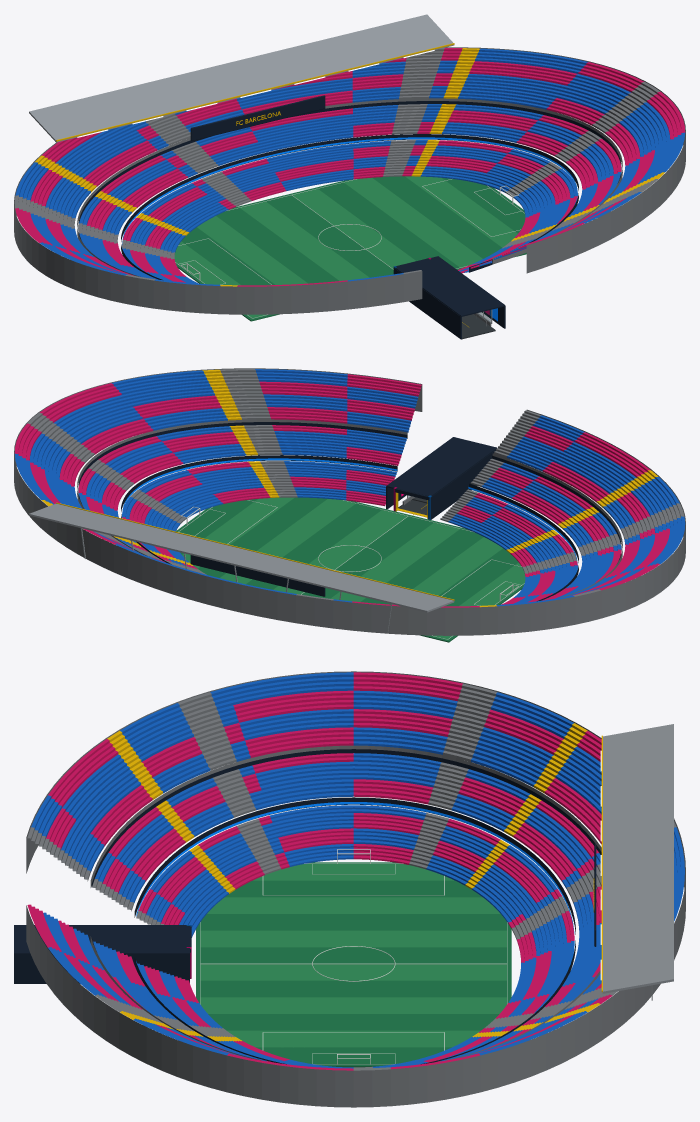
File: camp-nou-tunnel-final.glb
3 views of the same model, one above another, from view 1: azimuth 30°, elevation 25°; view 2: azimuth 150°, elevation 25°; view 3: azimuth 270°, elevation 25° (orthographic). The views are drawn at different scales.
Parts seen in each view (by area): view 1: Camp_Nou_Upper_Tier, Camp_Nou_Lower_Tier, Camp_Nou_Middle_Tier, Camp_Nou_Outer_Shell, Far_Grandstand_Canopy, Pitch_Mowing_Stripe_09, Tunnel_Ceiling, Pitch_Mowing_Stripe_10, Pitch_Mowing_Stripe_06, Pitch_Mowing_Stripe_08, Pitch_Mowing_Stripe_05, Lower_Tier_Fascia (+15 smaller); view 2: Camp_Nou_Upper_Tier, Camp_Nou_Outer_Shell, Camp_Nou_Middle_Tier, Camp_Nou_Lower_Tier, Far_Grandstand_Canopy, Tunnel_Ceiling, Pitch_Mowing_Stripe_05, Pitch_Mowing_Stripe_08, Lower_Tier_Fascia, Pitch_Mowing_Stripe_09, Pitch_Mowing_Stripe_06, Pitch_Mowing_Stripe_07 (+14 smaller); view 3: Camp_Nou_Upper_Tier, Camp_Nou_Lower_Tier, Camp_Nou_Middle_Tier, Camp_Nou_Outer_Shell, Far_Grandstand_Canopy, Pitch_Mowing_Stripe_05, Pitch_Mowing_Stripe_08, Pitch_Mowing_Stripe_06, Pitch_Mowing_Stripe_07, Pitch_Mowing_Stripe_04, Pitch_Mowing_Stripe_09, Pitch_Mowing_Stripe_03 (+12 smaller).
Boxes of the visible parts, box(x1,y1,x2,y2) form: Camp_Nou_Upper_Tier: box(14, 48, 685, 286); Camp_Nou_Lower_Tier: box(122, 140, 577, 283); Camp_Nou_Middle_Tier: box(78, 104, 621, 279); Camp_Nou_Outer_Shell: box(14, 47, 685, 314); Far_Grandstand_Canopy: box(29, 14, 454, 142); Pitch_Mowing_Stripe_09: box(344, 178, 482, 267); Tunnel_Ceiling: box(395, 256, 505, 316); Pitch_Mowing_Stripe_10: box(372, 176, 501, 258); Pitch_Mowing_Stripe_06: box(266, 195, 393, 277); Pitch_Mowing_Stripe_08: box(318, 182, 459, 268); Pitch_Mowing_Stripe_05: box(240, 201, 368, 280); Lower_Tier_Fascia: box(121, 134, 578, 279); Camp_Nou_Upper_Tier: box(14, 369, 685, 607); Camp_Nou_Outer_Shell: box(14, 368, 685, 635); Camp_Nou_Middle_Tier: box(78, 425, 621, 600); Camp_Nou_Lower_Tier: box(122, 461, 577, 604); Far_Grandstand_Canopy: box(29, 503, 454, 612); Tunnel_Ceiling: box(386, 437, 497, 496); Pitch_Mowing_Stripe_05: box(330, 522, 459, 601); Pitch_Mowing_Stripe_08: box(246, 503, 381, 589); Lower_Tier_Fascia: box(121, 455, 578, 601); Pitch_Mowing_Stripe_09: box(220, 499, 355, 584); Pitch_Mowing_Stripe_06: box(302, 516, 433, 598); Pitch_Mowing_Stripe_07: box(273, 510, 407, 594); Camp_Nou_Upper_Tier: box(27, 672, 684, 1070); Camp_Nou_Lower_Tier: box(136, 805, 574, 1068); Camp_Nou_Middle_Tier: box(92, 753, 601, 1062); Camp_Nou_Outer_Shell: box(26, 671, 685, 1107); Far_Grandstand_Canopy: box(602, 724, 673, 993); Pitch_Mowing_Stripe_05: box(200, 930, 506, 947); Pitch_Mowing_Stripe_08: box(200, 980, 506, 997); Pitch_Mowing_Stripe_06: box(200, 947, 506, 963); Pitch_Mowing_Stripe_07: box(200, 964, 506, 980); Pitch_Mowing_Stripe_04: box(200, 914, 506, 930); Pitch_Mowing_Stripe_09: box(200, 997, 506, 1013); Pitch_Mowing_Stripe_03: box(207, 897, 500, 913).
Bounding box in the file's own units: 130 × 17.77 × 92.35.
